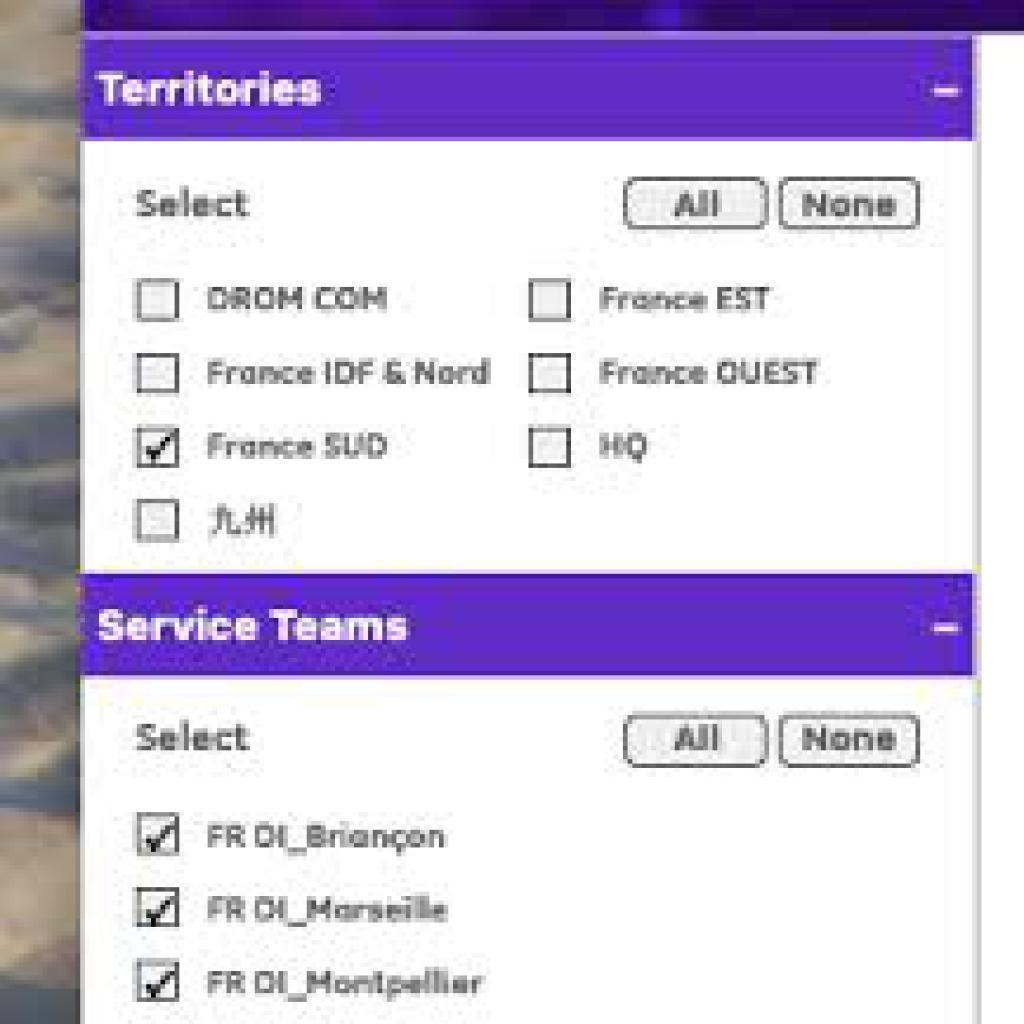button: (623, 713, 769, 768), (779, 713, 921, 768), (623, 176, 768, 229), (780, 174, 920, 228)
checkbox: (527, 278, 572, 323), (135, 278, 182, 321), (134, 959, 180, 1002), (134, 497, 178, 541), (136, 352, 181, 394), (137, 810, 179, 855), (527, 427, 571, 468), (527, 353, 570, 394), (137, 429, 180, 469), (137, 888, 181, 927)
label: (203, 886, 450, 930), (209, 354, 493, 391), (206, 966, 488, 1003), (201, 819, 452, 859), (596, 350, 824, 390), (204, 281, 394, 317), (203, 430, 393, 464), (596, 280, 774, 314), (209, 496, 282, 543), (594, 423, 654, 470)
